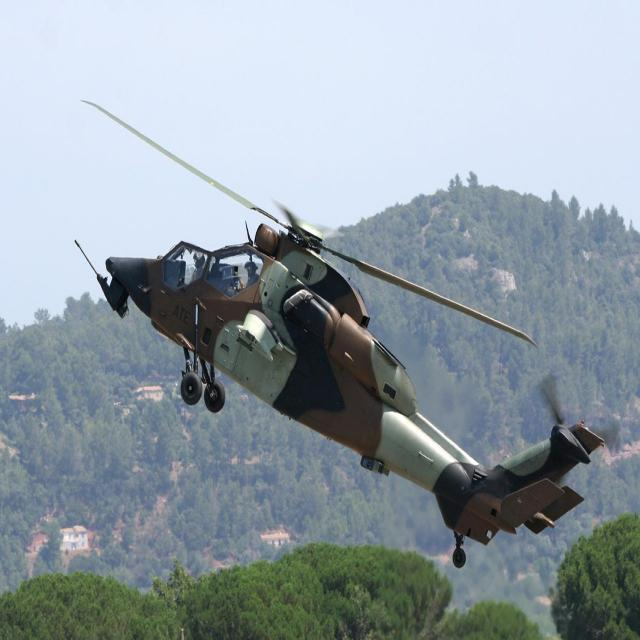MIL_HELO: (74, 98, 606, 578)
